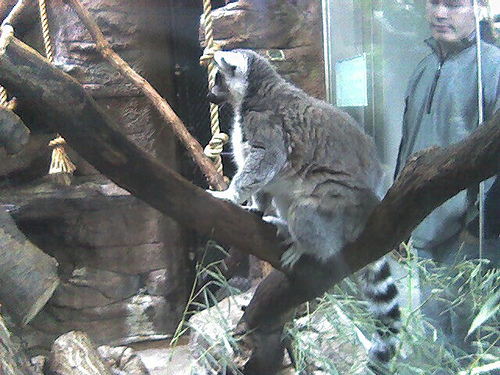cat: (208, 49, 401, 373)
